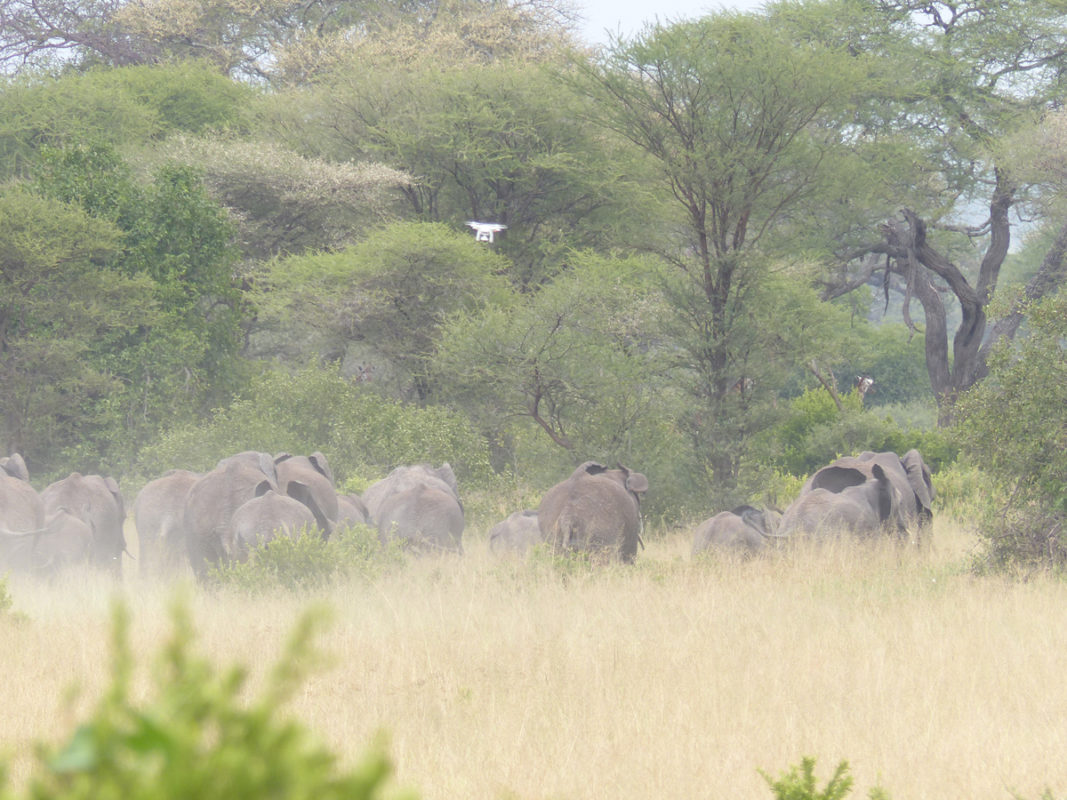drone: (459, 215, 518, 254)
